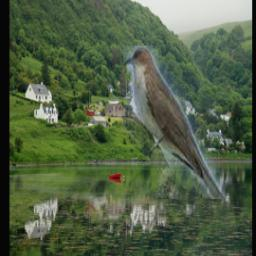Cuckoo: (123, 47, 226, 200)
